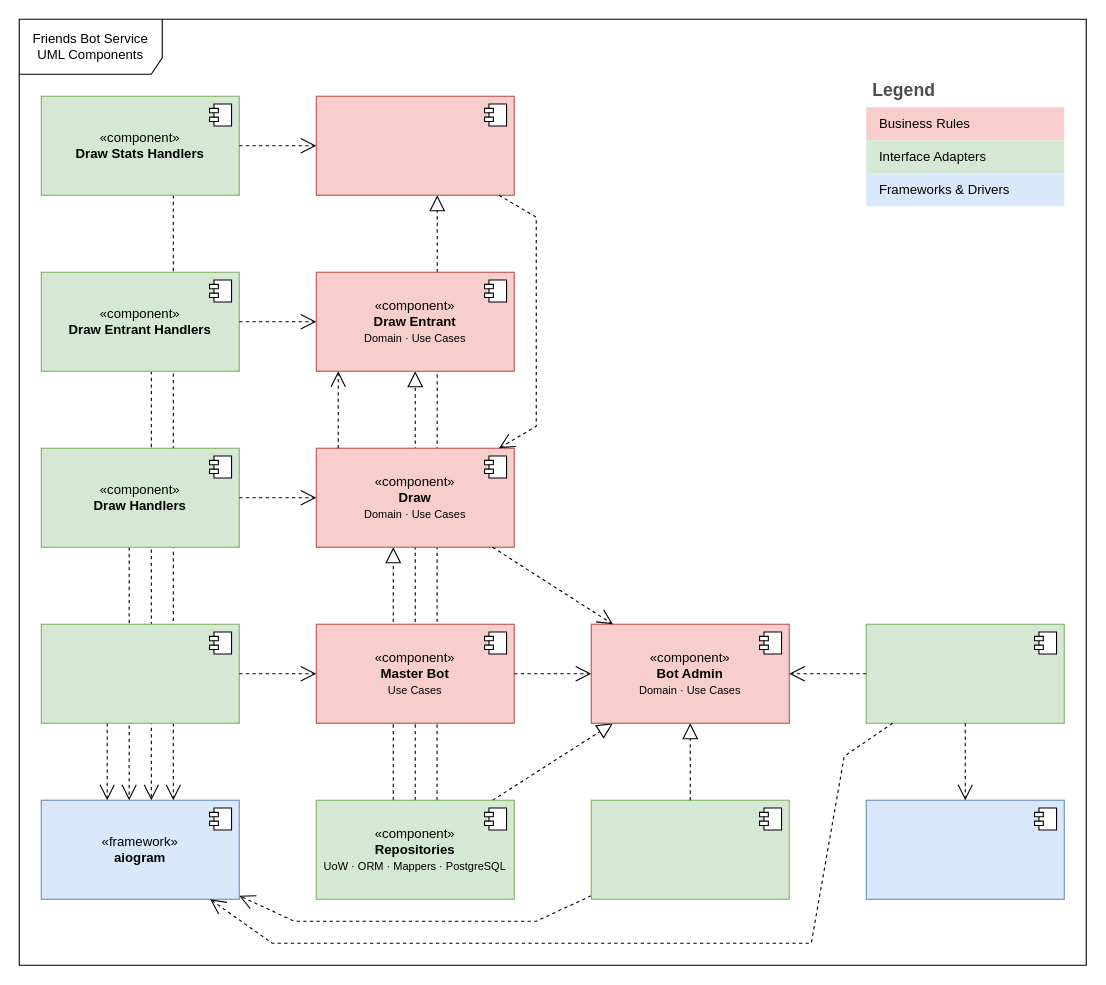
Some shapes in this 1106 by 985 pixel diagram are drawn without their labels. The shapes that lost their labels are listed below. From the top down, each one's box as (x1, y1, x2, y2) in pixels, then its label:
(315, 95, 514, 195): «component» Draw Stats Domain · Use Cases
(40, 623, 239, 723): «component» Master Bot Handlers
(865, 623, 1064, 723): «component» Webhook API HTTP Adapter, App State
(590, 799, 789, 899): «component» Bot Manager Polling · Webhook · Bot Registry
(865, 799, 1064, 899): «framework» FastAPI
